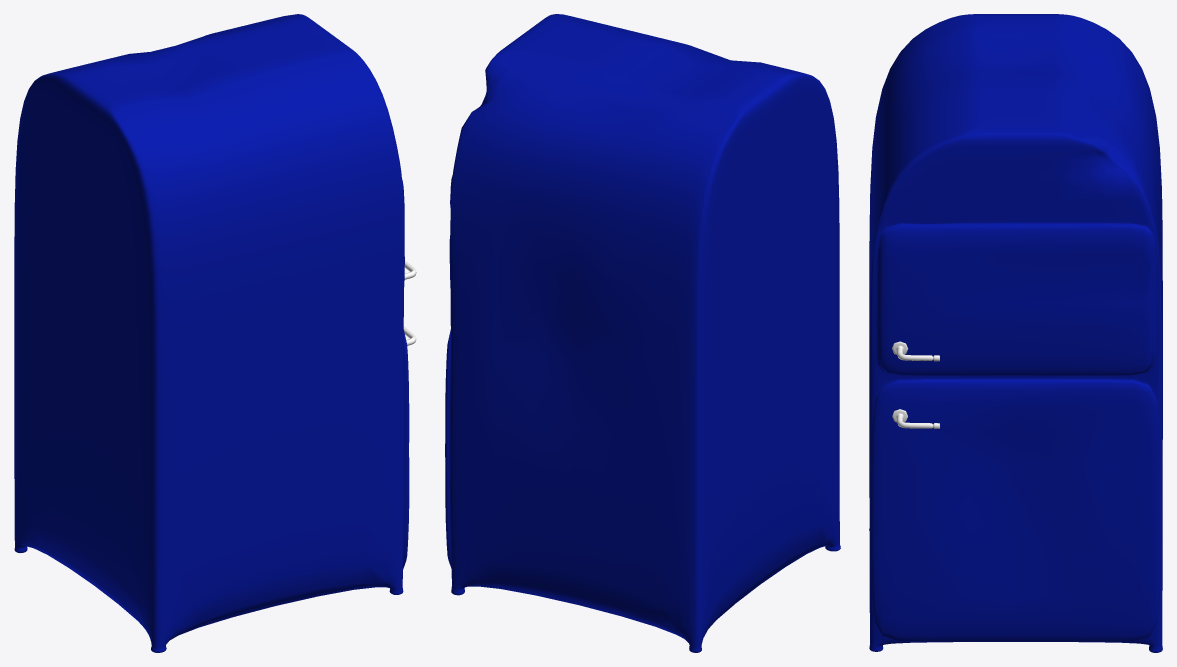
Rendered from frige.fbx.
3 renders of one model, left to right at view 1: azimuth 30°, elevation 25°; view 2: azimuth 150°, elevation 25°; view 3: azimuth 270°, elevation 25°, orthographic.
Visible parts, largest first — view 1: Cube.002; view 2: Cube.002; view 3: Cube.002.
Part boxes in pixels (<box>): Cube.002: <box>14,14,416,652</box>; Cube.002: <box>445,14,840,652</box>; Cube.002: <box>869,14,1162,652</box>.
Bounding box in the file's own units: 224 × 391 × 200.
